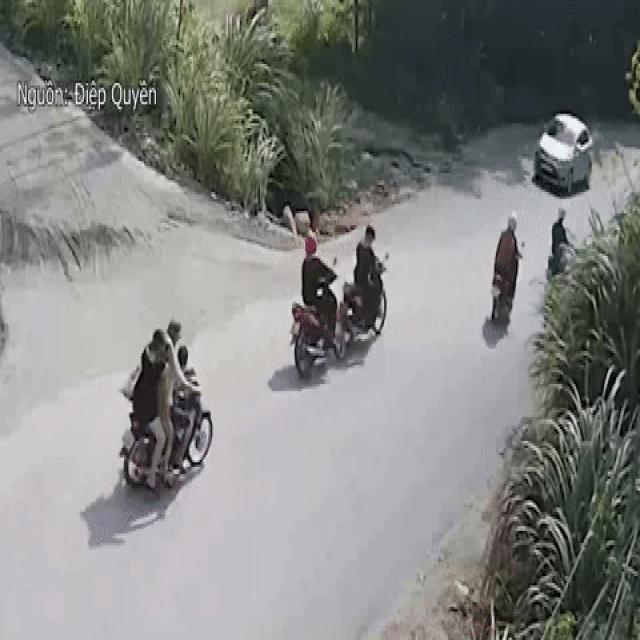normal: (104, 301, 219, 507), (280, 209, 407, 393), (526, 89, 597, 197), (470, 190, 523, 334)
